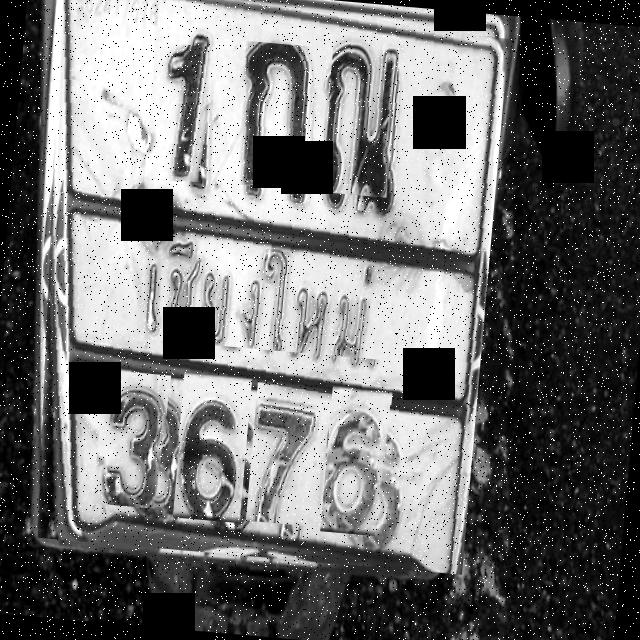letters: (320, 34, 400, 198), (245, 382, 332, 527), (234, 41, 316, 190), (172, 372, 252, 522), (320, 384, 392, 536), (92, 369, 170, 509), (144, 41, 219, 186)
license-plate: (58, 0, 508, 573)
province: (112, 226, 408, 361)
